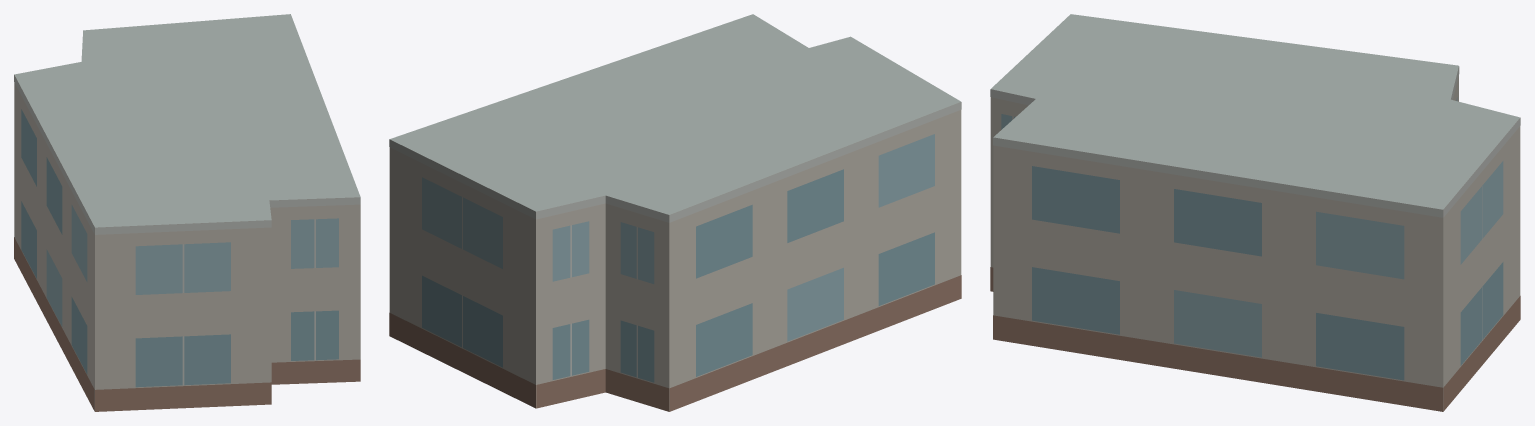
File: survey-upis-32682194.glb
3 views of the same model, side by side, from view 1: azimuth 30°, elevation 25°; view 2: azimuth 150°, elevation 25°; view 3: azimuth 270°, elevation 25° (orthographic). The views are drawn at different scales.
Parts seen in each view (by area): view 1: survey-upis-32682194.tmp; view 2: survey-upis-32682194.tmp; view 3: survey-upis-32682194.tmp.
Part boxes in pixels (left/top/right/bottom): survey-upis-32682194.tmp: left=14, top=14, right=360, bottom=411; survey-upis-32682194.tmp: left=389, top=14, right=961, bottom=411; survey-upis-32682194.tmp: left=990, top=14, right=1520, bottom=411.
Bounding box in the file's own units: 12.68 × 6.1 × 14.51.
